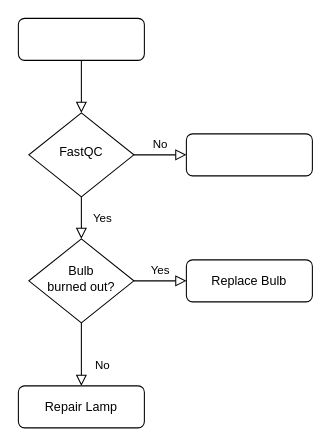
This 331x446 diagram has some shape labels left out. The shapes that lost their labels are listed below. From the top down, each one's centre as x and y in pixels, then its label:
At pixel 80 38: "Illumina Pair-end Reads".
At pixel 248 154: "Plug in lamp".
